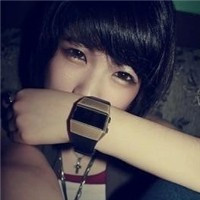face: (46, 14, 149, 149)
